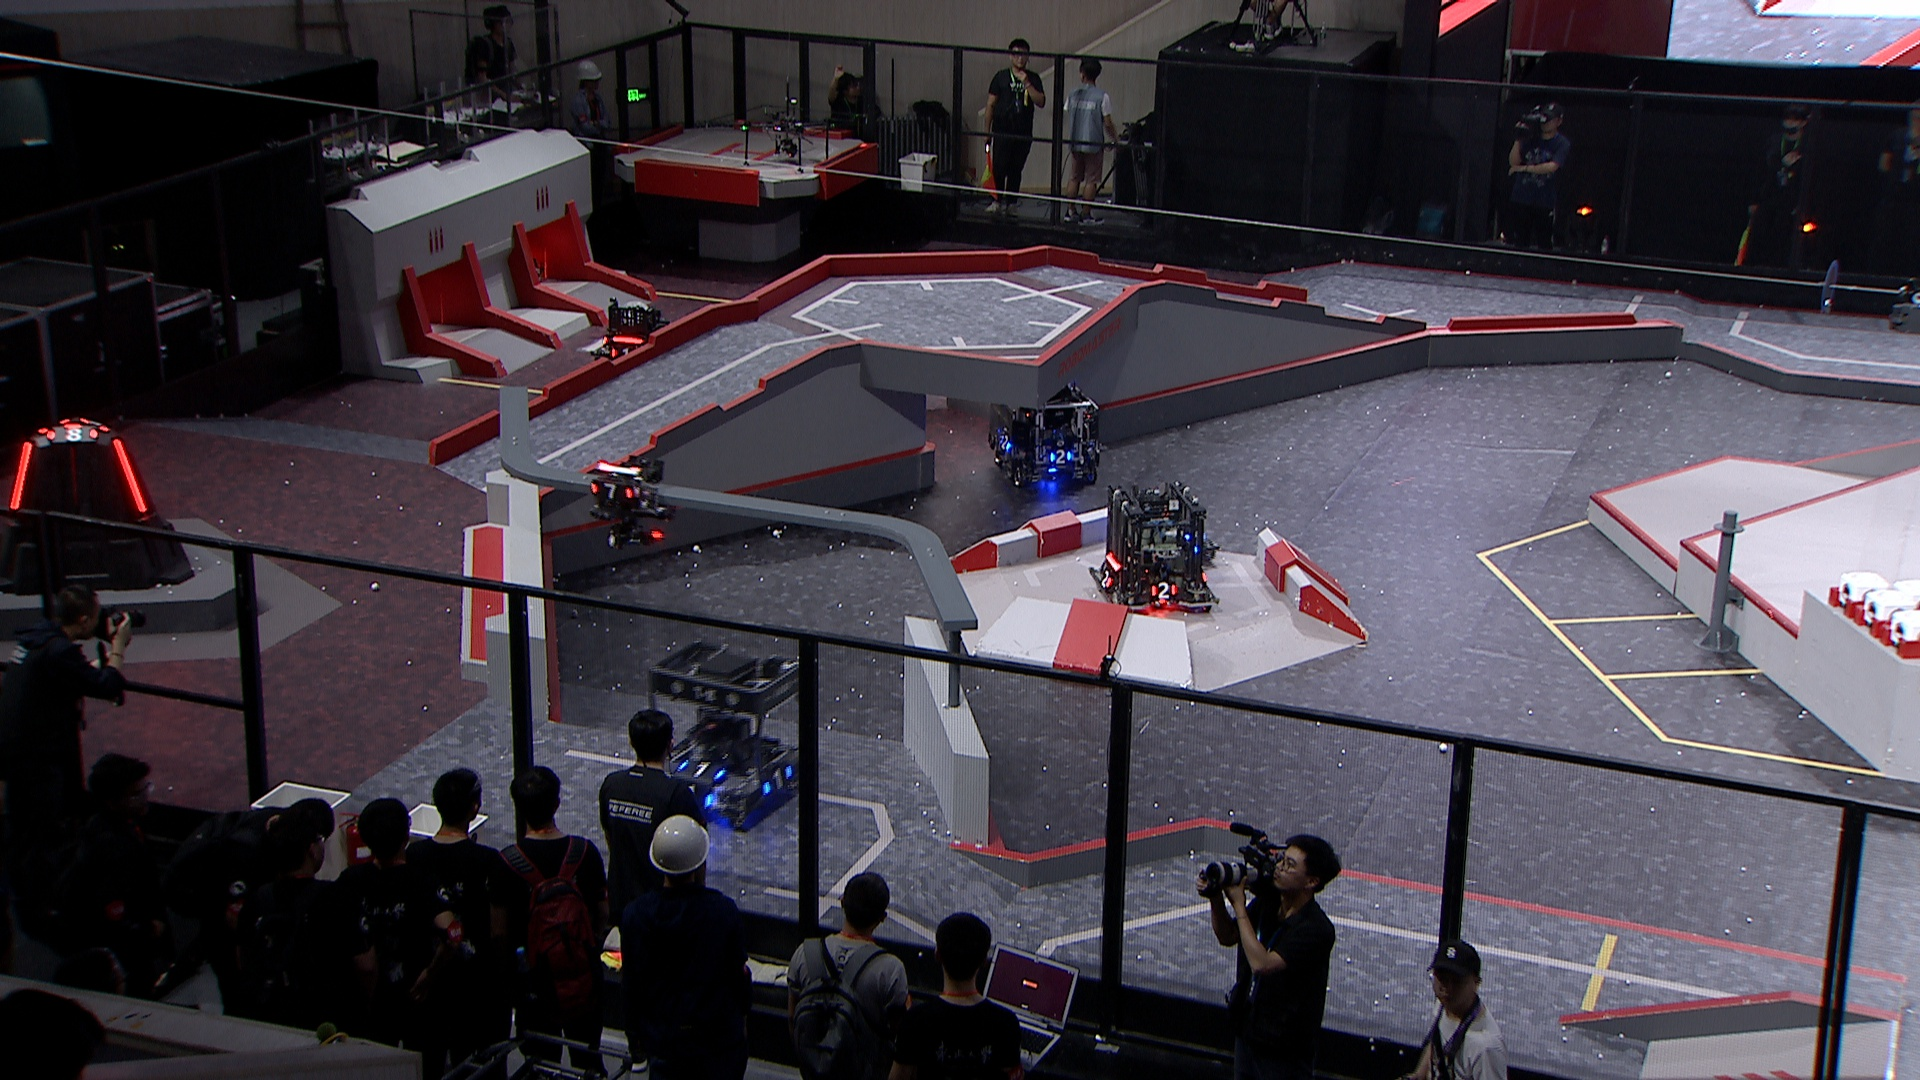armor: (111, 436, 148, 513), (7, 438, 34, 512), (661, 782, 713, 811), (678, 757, 723, 779), (761, 766, 795, 794), (45, 423, 96, 440), (593, 483, 632, 501), (1149, 583, 1176, 599), (1096, 567, 1114, 589), (1046, 450, 1072, 463), (609, 345, 629, 360), (998, 436, 1011, 451)
car: (642, 640, 816, 835), (1087, 481, 1221, 617), (982, 372, 1102, 487), (589, 295, 673, 377), (1171, 518, 1232, 572)
watcher: (584, 451, 678, 547)
